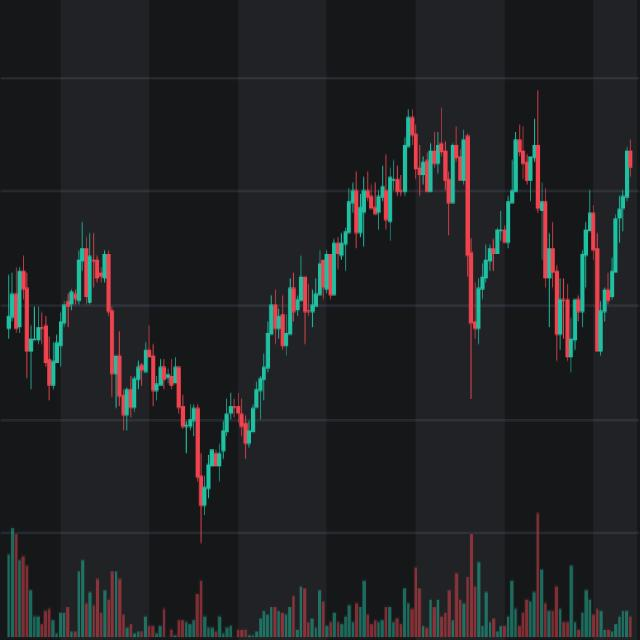Channel-up: (249, 38, 482, 441)
